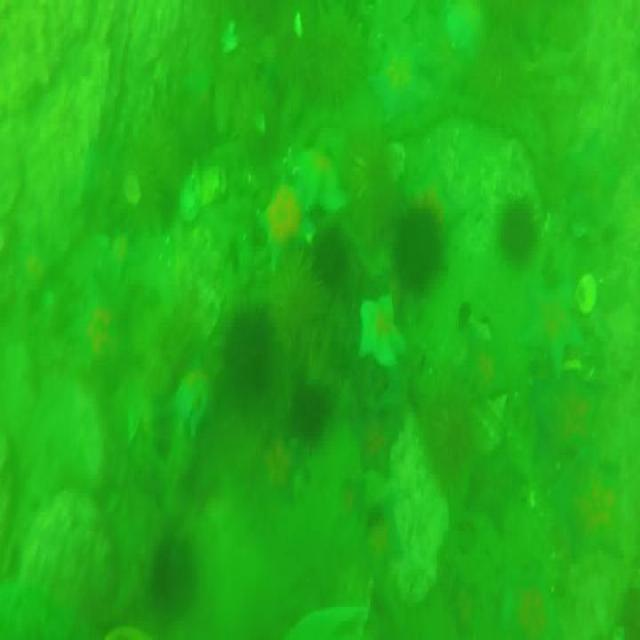echinus: (220, 305, 268, 408), (396, 198, 440, 297), (150, 526, 198, 613), (501, 204, 539, 262), (289, 387, 329, 438), (317, 223, 348, 276)
holothurian: (278, 276, 356, 364)
scallop: (576, 268, 599, 314), (122, 174, 140, 205)
starfish: (511, 275, 591, 368), (362, 33, 436, 123), (254, 180, 326, 267), (461, 441, 522, 529), (546, 441, 590, 551), (296, 133, 348, 226), (354, 300, 405, 370)
